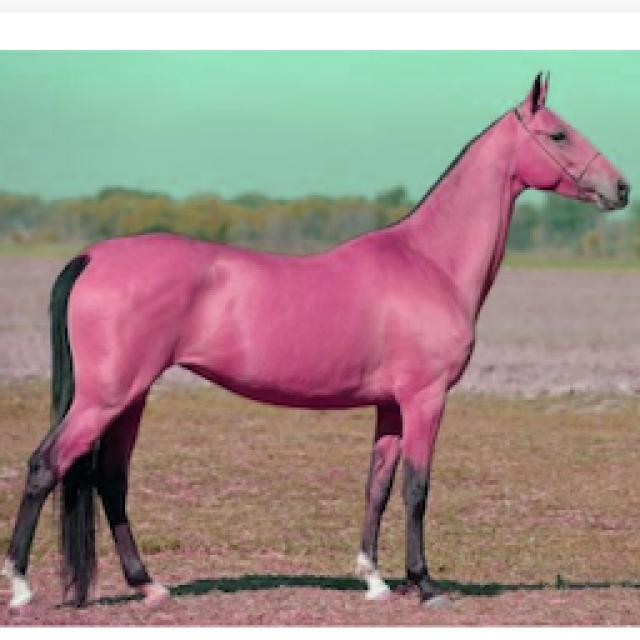Horse: (0, 67, 632, 612)
